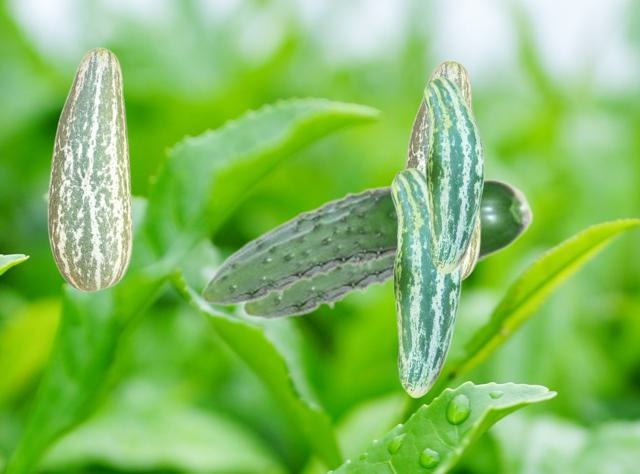cucumber: (241, 178, 533, 319), (200, 182, 396, 305), (47, 47, 132, 291), (404, 60, 480, 281), (390, 167, 460, 397), (423, 76, 483, 273)
